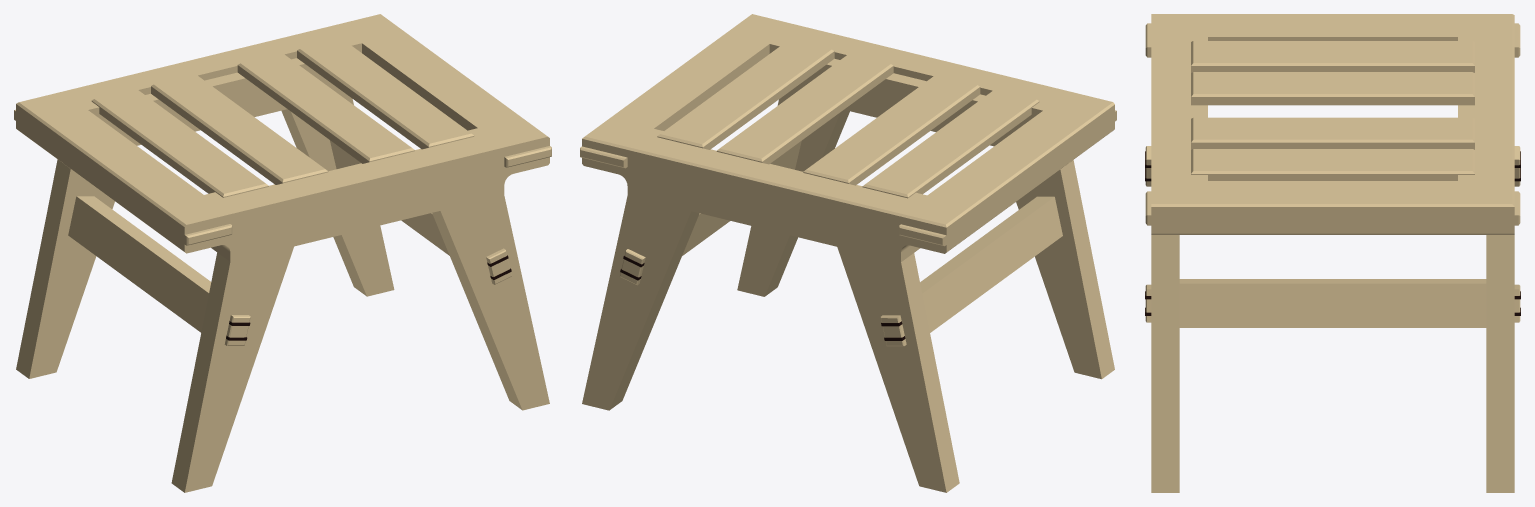
File: stoolfromblender.glb
The picture shows the model from 3 angles, left to right: view 1: azimuth 30°, elevation 25°; view 2: azimuth 150°, elevation 25°; view 3: azimuth 270°, elevation 25°; orthographic projection. The views are drawn at different scales.
Visible parts, largest first — view 1: Stool v2; view 2: Stool v2; view 3: Stool v2.
Part boxes in pixels (x1,y1,x2,y2): Stool v2: [14, 14, 551, 492]; Stool v2: [580, 14, 1116, 492]; Stool v2: [1145, 14, 1520, 492].
Bounding box in the file's own units: 2.98 × 2.11 × 2.47.
